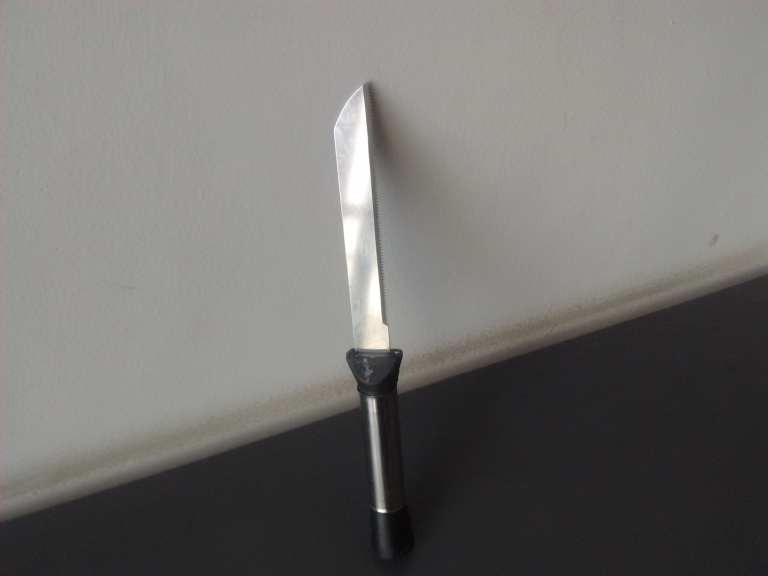knife: (328, 82, 419, 560)
